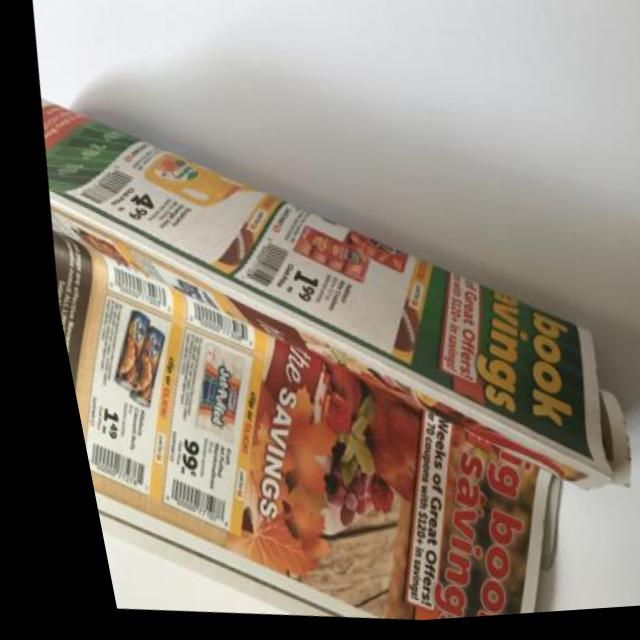paper: (9, 28, 640, 640)
